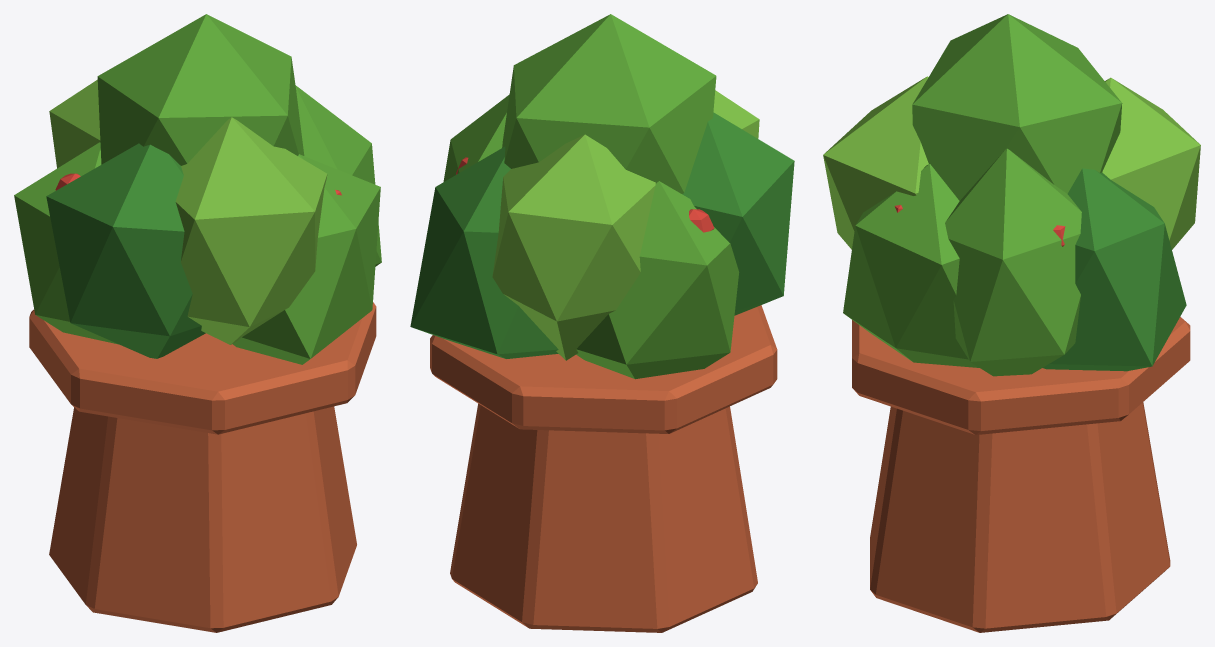
File: lobby_plant.glb
3 views of the same model, side by side, from view 1: azimuth 30°, elevation 25°; view 2: azimuth 150°, elevation 25°; view 3: azimuth 270°, elevation 25° (orthographic).
Parts seen in each view (by area): view 1: lobby_plant; view 2: lobby_plant; view 3: lobby_plant.
Boxes of the visible parts, <box> form: lobby_plant: <box>14,14,381,632</box>; lobby_plant: <box>410,14,794,632</box>; lobby_plant: <box>823,14,1200,632</box>.
Size of the model in its own units: 0.5023 by 0.8424 by 0.5195.
